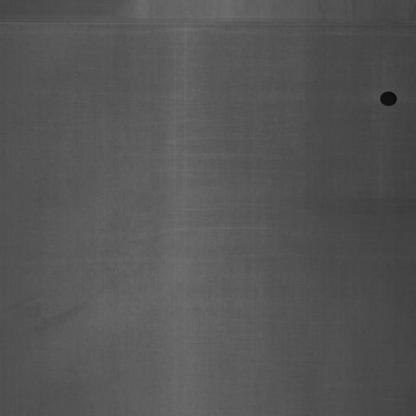punching_hole: (378, 86, 400, 110)
welding_line: (3, 10, 412, 37)
